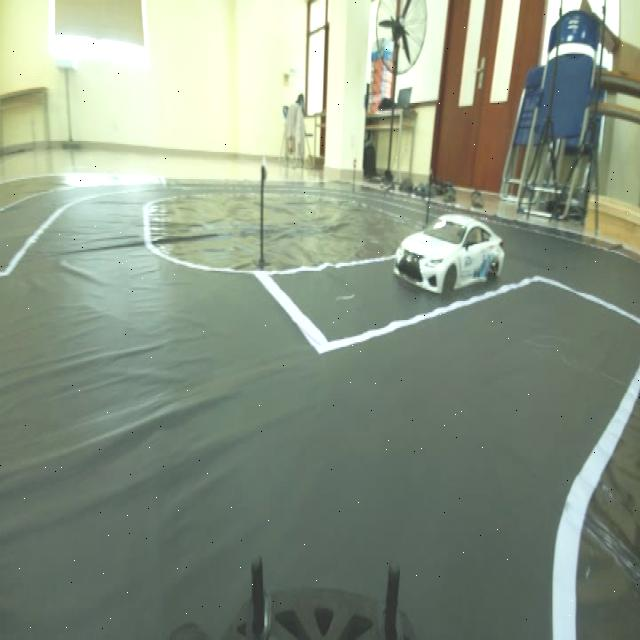car: (387, 208, 512, 296)
